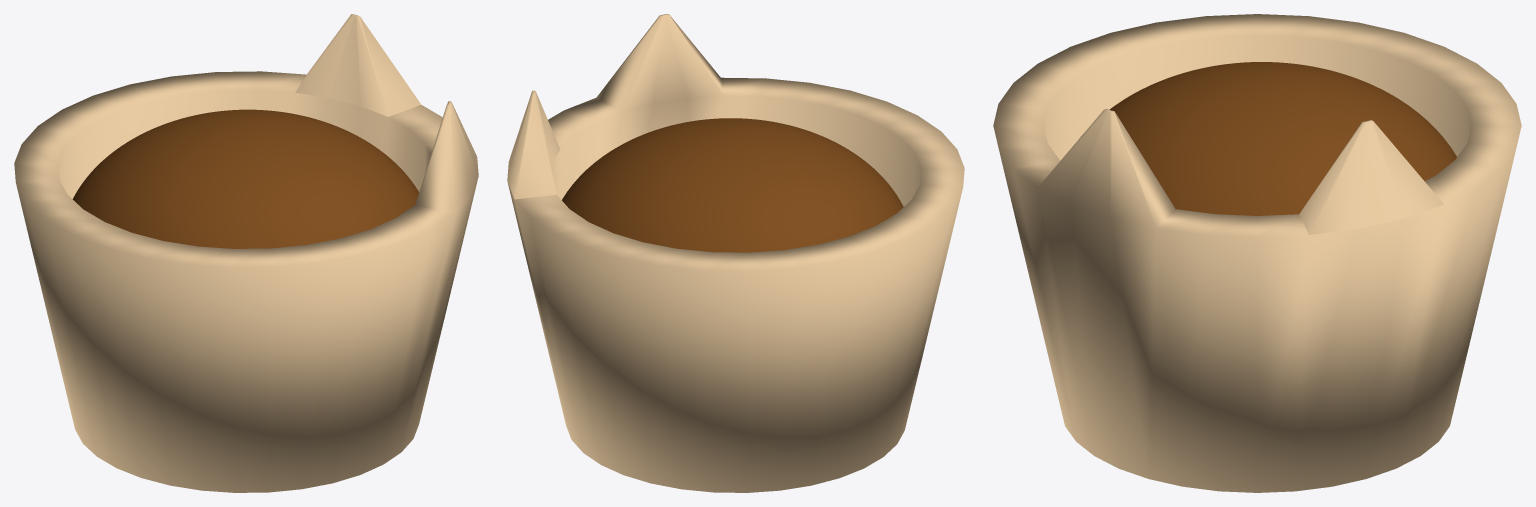
File: MacetaPrimaveraX.fbx
The picture shows the model from 3 angles, left to right: view 1: azimuth 30°, elevation 25°; view 2: azimuth 150°, elevation 25°; view 3: azimuth 270°, elevation 25°; orthographic projection. The views are drawn at different scales.
Visible parts, largest first — view 1: Circle.001, Sphere.002; view 2: Circle.001, Sphere.002; view 3: Circle.001, Sphere.002.
Boxes of the visible parts, <box> form: Circle.001: <box>14,14,478,492</box>; Sphere.002: <box>72,109,419,248</box>; Circle.001: <box>507,14,964,492</box>; Sphere.002: <box>562,118,903,252</box>; Circle.001: <box>993,14,1521,492</box>; Sphere.002: <box>1109,62,1456,215</box>.
Size of the model in its own units: 45.4 by 35.61 by 45.4.
